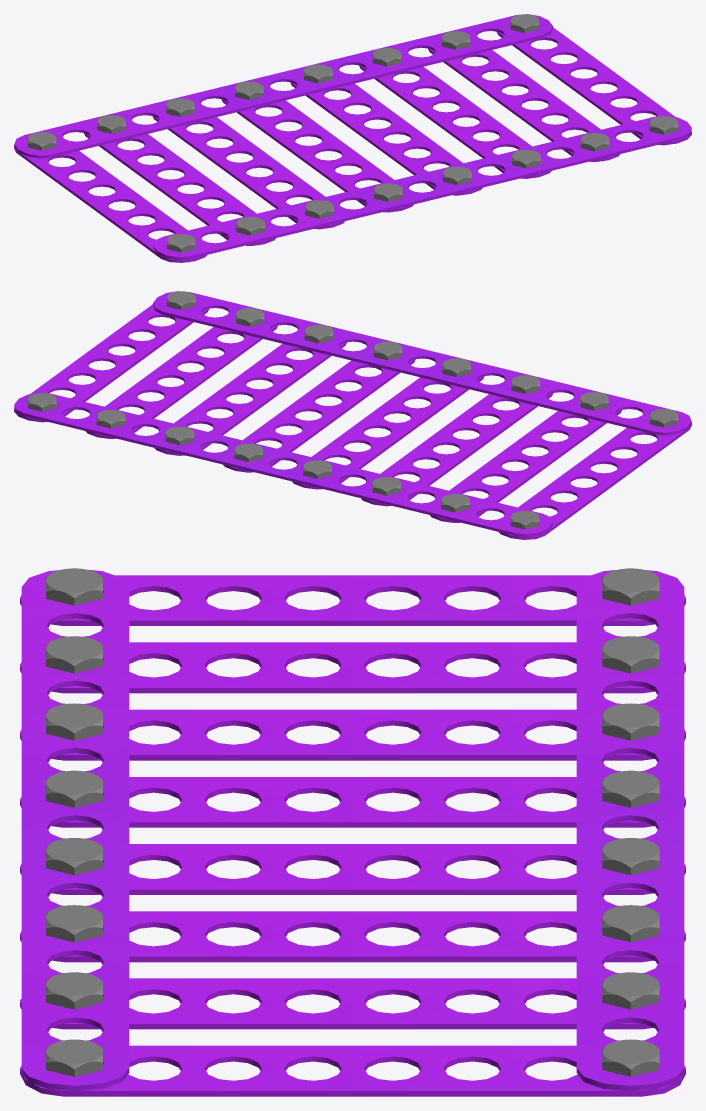
Rendered from ConstructedPanelPink.fbx.
The picture shows the model from 3 angles, top to bottom: view 1: azimuth 30°, elevation 25°; view 2: azimuth 150°, elevation 25°; view 3: azimuth 270°, elevation 25°; orthographic projection. The views are drawn at different scales.
Parts seen in each view (by area): view 1: Bridge, 2HighConnection; view 2: Bridge, 2HighConnection; view 3: Bridge, 2HighConnection.
Part boxes in pixels (x1,y1,x2,y2): Bridge: (14,14,691,262); 2HighConnection: (27,14,678,262); Bridge: (14,291,691,539); 2HighConnection: (28,291,678,529); Bridge: (20,569,685,1096); 2HighConnection: (46,568,659,1095).
Bounding box in the file's own units: 39.25 × 1.13 × 21.36.
